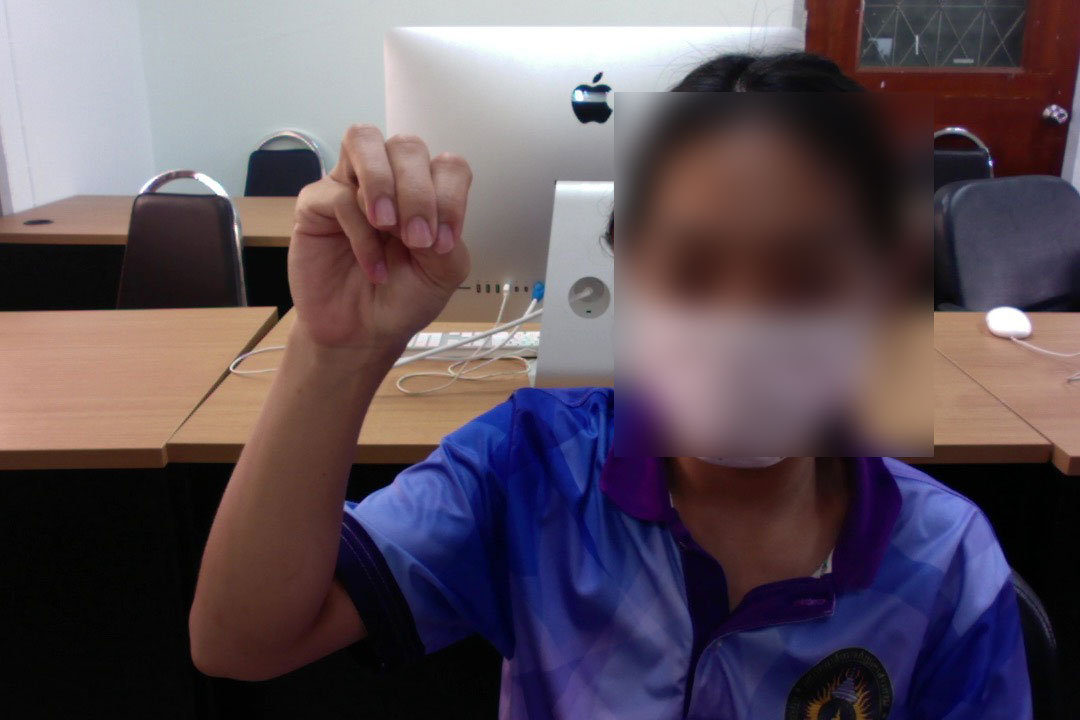mor: (286, 113, 474, 361)
